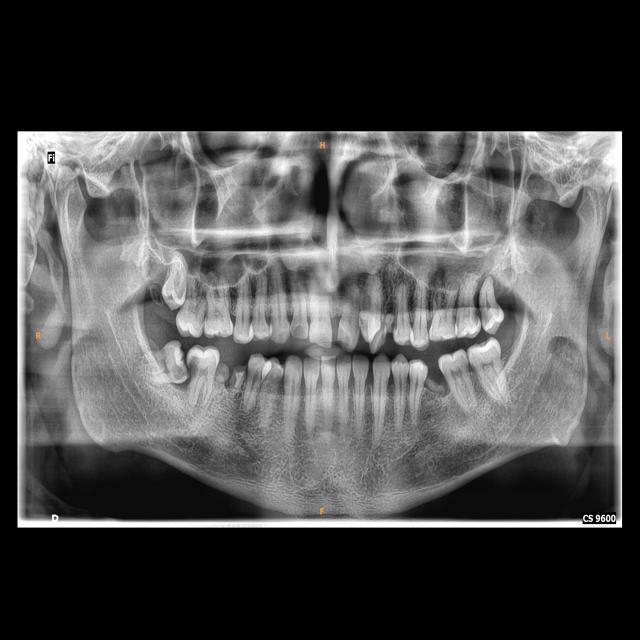dentin-curugu: (170, 361, 188, 383), (481, 304, 493, 330), (187, 357, 201, 379), (291, 320, 306, 338)
kirik: (216, 360, 246, 390)
